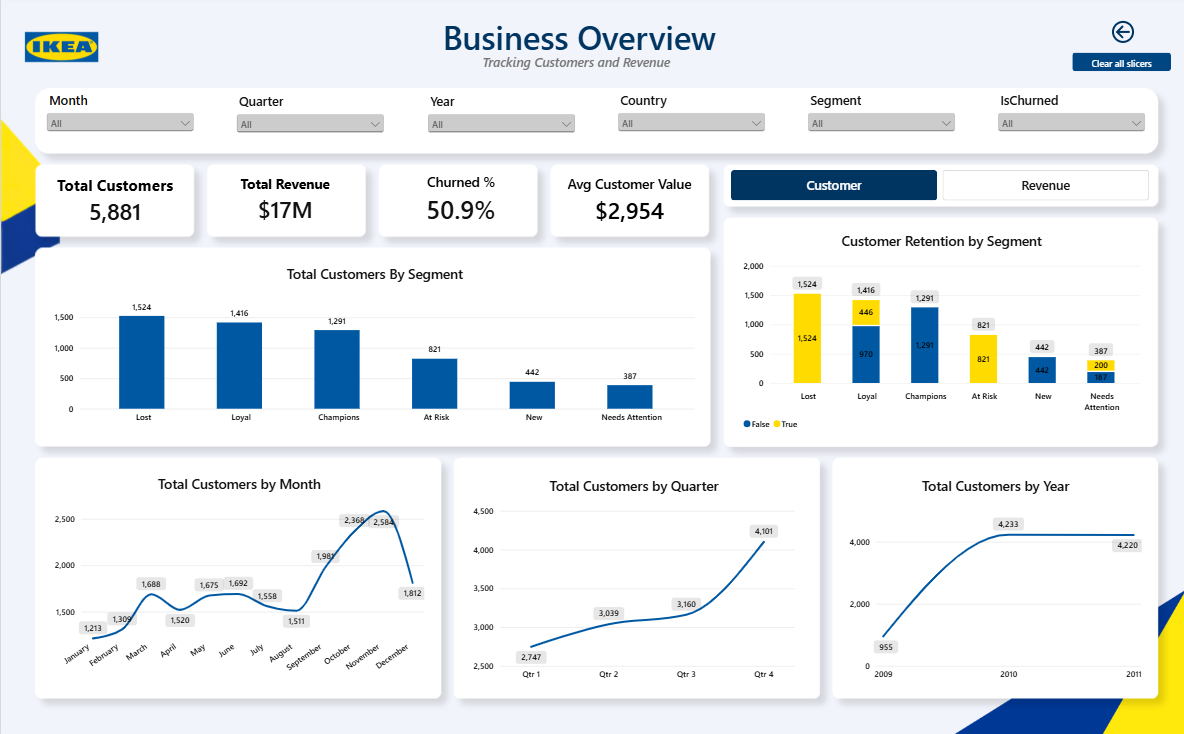

Layout of this report page (visuals, bound fields, positions):
{"tool":"powerbi","page":{"name":"Overview","canvas":[1750,1100],"ordinal":1},"visuals":[{"type":"cardVisual","fields":{"Data":["_Measure.Total Revenue"]},"box":[312.8,256.4,211.8,91.3],"z":0},{"type":"columnChart","title":"Total Customers By Segment","fields":{"Category":["Sheet1.Segment"],"Y":["_Measure.Total Customers"]},"box":[62.7,383.4,976.9,267.3],"z":0,"group":"g1"},{"type":"cardVisual","fields":{"Data":["_Measure.Avg Customer Value"]},"box":[814.7,256.2,224.9,92.2],"z":1000},{"type":"columnChart","title":"Customer Retention by Segment","fields":{"Category":["Sheet1.Segment"],"Series":["Sheet1.IsChurned"],"Y":["_Measure.Total Customers"]},"box":[1078.3,333.6,617.5,328.1],"z":1000,"group":"g1"},{"type":"cardVisual","fields":{"Data":["_Measure.Total Customers"]},"box":[62.2,258.4,211.8,89.4],"z":2000},{"type":"lineChart","title":"Total Customers by Month","fields":{"Category":["Sheet1.InvoiceMonth.Variation.Date Hierarchy.Month"],"Y":["_Measure.Total Customers"]},"box":[62.7,693,577.4,335],"z":2000,"group":"g1"},{"type":"cardVisual","fields":{"Data":["_Measure.Churned %"]},"box":[573.2,258,210.1,88.5],"z":3000},{"type":"lineChart","title":"Total Customers by Quarter","fields":{"Category":["Sheet1.InvoiceMonth.Variation.Date Hierarchy.Quarter"],"Y":["_Measure.Total Customers"]},"box":[680.2,694.9,506.5,335],"z":3000,"group":"g1"},{"type":"slicer","fields":{"Values":["Sheet1.InvoiceDate.Variation.Date Hierarchy.Month"]},"box":[63.1,141.9,226.6,84.7],"z":4000},{"type":"lineChart","title":"Total Customers by Year","fields":{"Category":["Sheet1.InvoiceMonth.Variation.Date Hierarchy.Year"],"Y":["_Measure.Total Customers"]},"box":[1235,694.9,463.1,335],"z":4000,"group":"g1"},{"type":"slicer","fields":{"Values":["Sheet1.InvoiceDate.Variation.Date Hierarchy.Quarter"]},"box":[343.7,143.9,226.6,84.7],"z":5000},{"type":"slicer","fields":{"Values":["Sheet1.InvoiceDate.Variation.Date Hierarchy.Year"]},"box":[624.3,143.9,226.6,84.7],"z":6000},{"type":"slicer","fields":{"Values":["Sheet1.Country"]},"box":[905,141.9,226.6,84.7],"z":7000},{"type":"slicer","fields":{"Values":["Sheet1.Segment"]},"box":[1185.6,141.9,226.6,84.7],"z":8000},{"type":"slicer","fields":{"Values":["Sheet1.IsChurned"]},"box":[1466.2,141.9,226.6,84.7],"z":9000},{"type":"group","id":"g1","title":"Customer","box":[62.7,333.6,1635.4,696.3],"z":10000},{"type":"bookmarkNavigator","box":[1076,258.2,616.8,45.3],"z":12000},{"type":"image","box":[11.1,29.5,156.7,94],"z":13000},{"type":"textbox","box":[499,29.5,705.9,88.5],"z":14000},{"type":"actionButton","box":[1620.1,31.3,68.2,46.1],"z":15000},{"type":"actionButton","box":[1579.6,84.8,145.6,27.6],"z":16000},{"type":"textbox","box":[710.1,86.6,283.8,25.8],"z":17000}]}

Visuals, with their boxes in screenshot pixels (x1, y1, x2, y2), scaled from the page's 1750x1100 canvas onto the 1184x734 screenshot:
cardVisual - _Measure.Total Revenue: box(212, 171, 355, 232)
"Total Customers By Segment" columnChart: box(42, 256, 703, 434)
cardVisual - _Measure.Avg Customer Value: box(551, 171, 703, 232)
"Customer Retention by Segment" columnChart: box(730, 223, 1147, 442)
cardVisual - _Measure.Total Customers: box(42, 172, 185, 232)
"Total Customers by Month" lineChart: box(42, 462, 433, 686)
cardVisual - _Measure.Churned %: box(388, 172, 530, 231)
"Total Customers by Quarter" lineChart: box(460, 464, 803, 687)
slicer - Sheet1.InvoiceDate.Variation.Date Hierarchy.Month: box(43, 95, 196, 151)
"Total Customers by Year" lineChart: box(836, 464, 1149, 687)
slicer - Sheet1.InvoiceDate.Variation.Date Hierarchy.Quarter: box(233, 96, 386, 153)
slicer - Sheet1.InvoiceDate.Variation.Date Hierarchy.Year: box(422, 96, 576, 153)
slicer - Sheet1.Country: box(612, 95, 766, 151)
slicer - Sheet1.Segment: box(802, 95, 955, 151)
slicer - Sheet1.IsChurned: box(992, 95, 1145, 151)
"Customer" group: box(42, 223, 1149, 687)
bookmarkNavigator: box(728, 172, 1145, 203)
image: box(8, 20, 114, 82)
textbox: box(338, 20, 815, 79)
actionButton: box(1096, 21, 1142, 52)
actionButton: box(1069, 57, 1167, 75)
textbox: box(480, 58, 672, 75)
